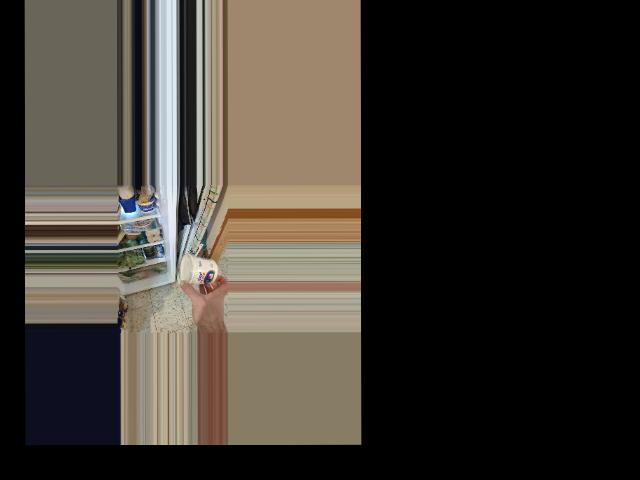cotage: (178, 255, 218, 287)
